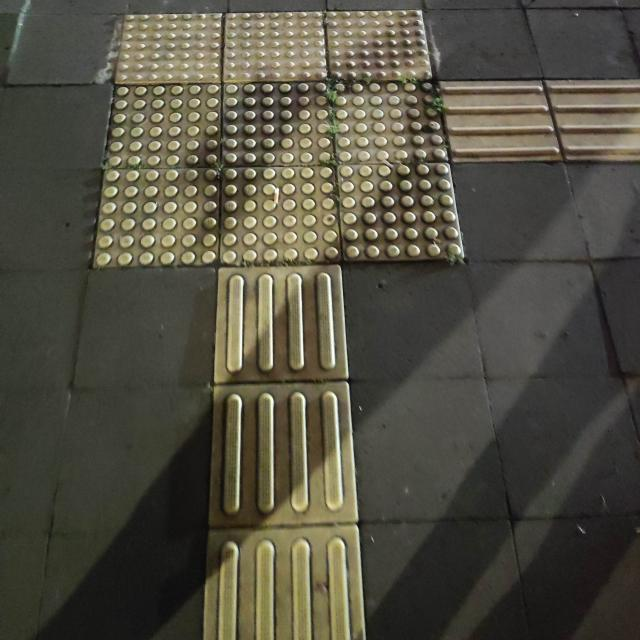kanan: (132, 42, 640, 355)
